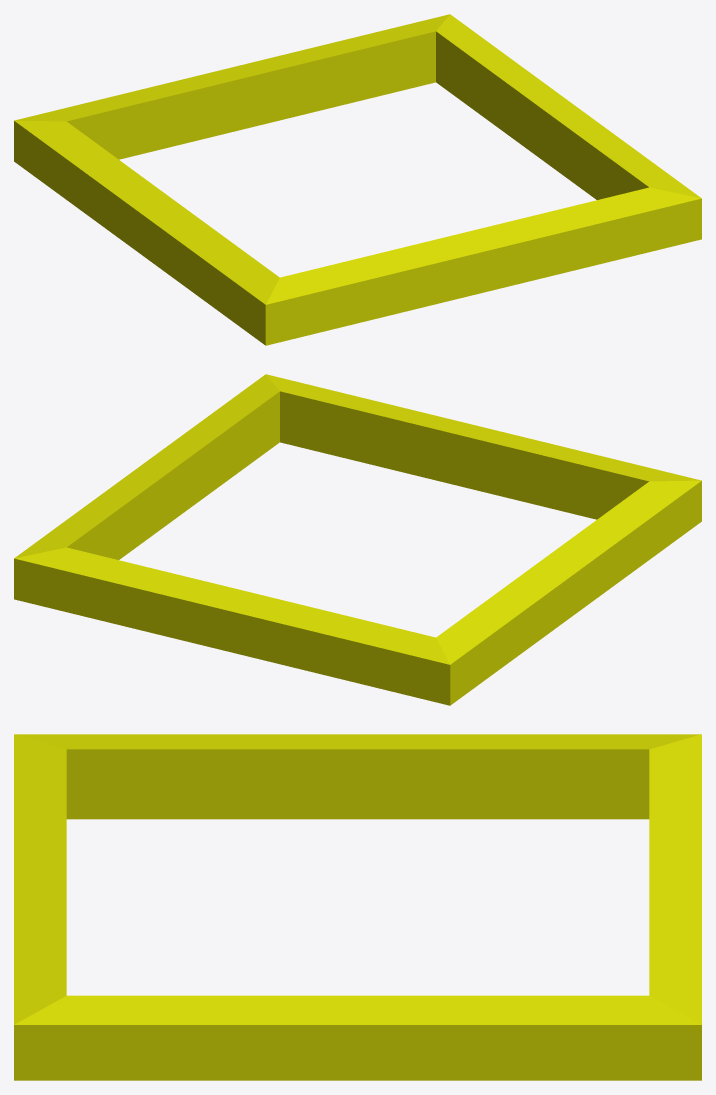
File: visionblock.glb
3 views of the same model, one above another, from view 1: azimuth 30°, elevation 25°; view 2: azimuth 150°, elevation 25°; view 3: azimuth 270°, elevation 25° (orthographic). The views are drawn at different scales.
Visible parts, largest first — view 1: Cube; view 2: Cube; view 3: Cube.
Boxes of the visible parts, left/top/right/bottom form: Cube: left=14, top=14, right=701, bottom=345; Cube: left=14, top=374, right=701, bottom=705; Cube: left=14, top=734, right=701, bottom=1080.
Size of the model in its own units: 2 by 0.2239 by 2.
